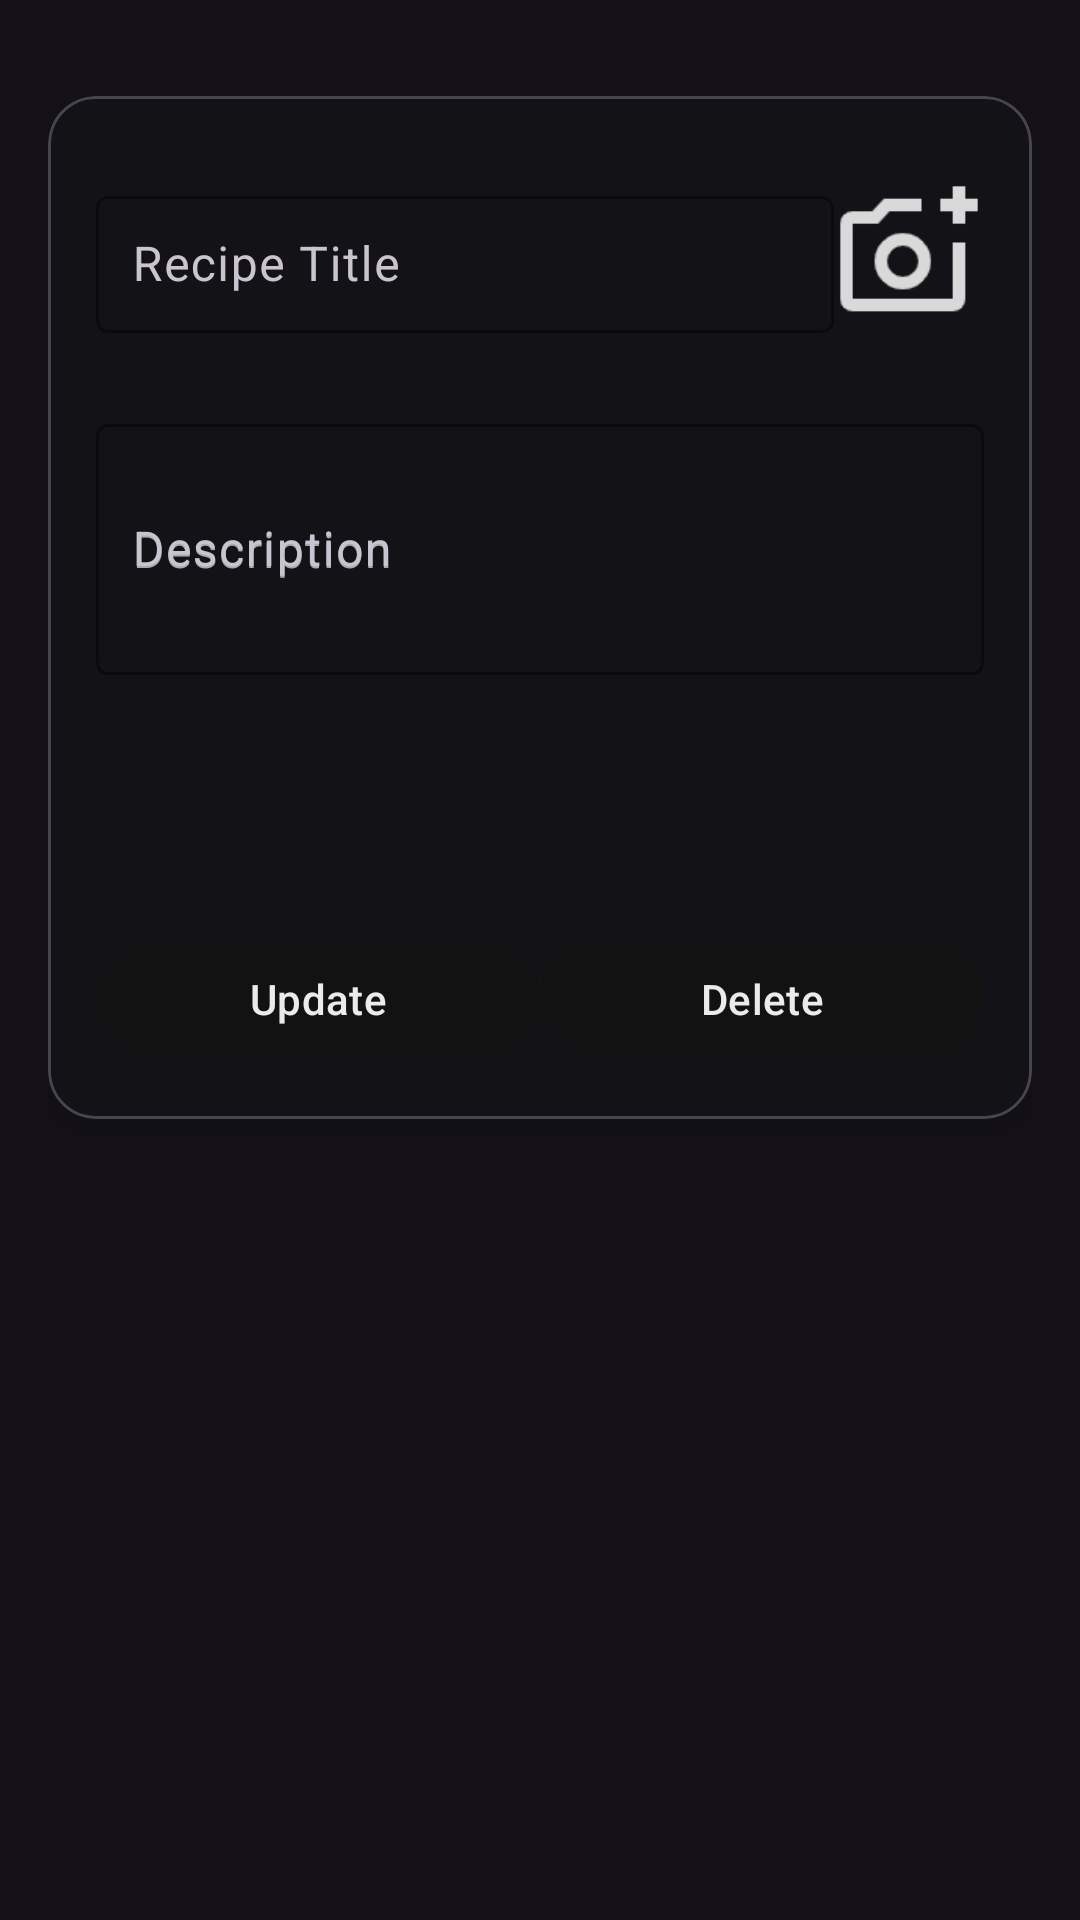

Where icons sit on this 1080 x 1920 app screen, as (x1, y1, x2, y2):
Upload Image: (840, 186, 978, 312)
